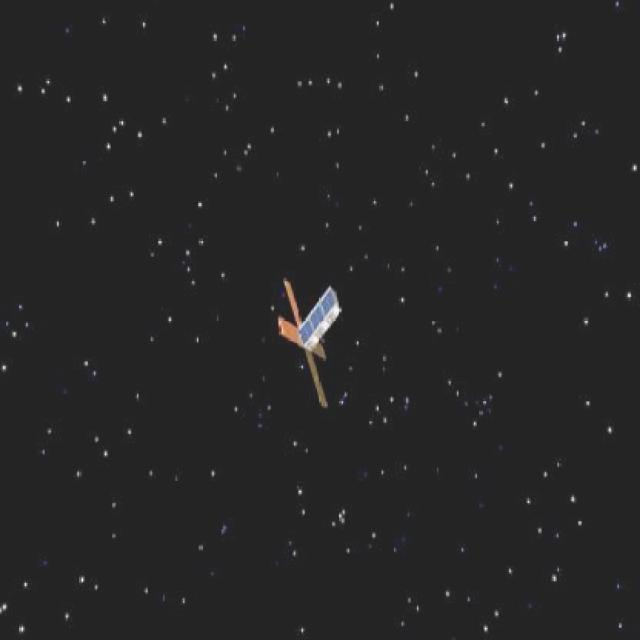medium_debris: (261, 269, 365, 410)
